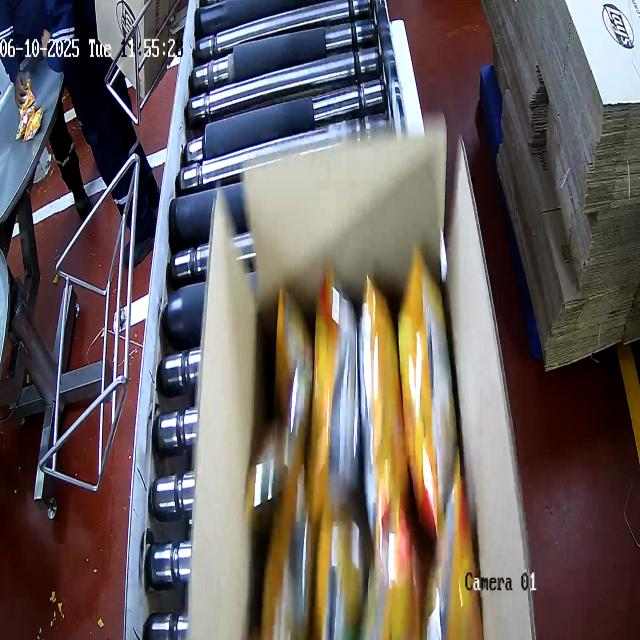FRENCH_CHEESE: (262, 267, 478, 640)
